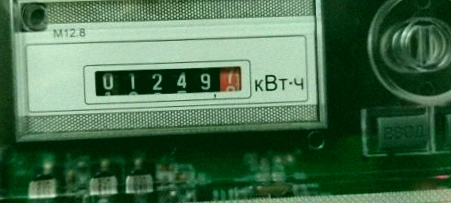0: (101, 71, 114, 91)
1: (126, 71, 136, 90)
2: (150, 71, 163, 91)
4: (175, 70, 186, 89)
7: (223, 66, 235, 85)
9: (198, 71, 211, 92)
screen: (75, 57, 250, 104)
